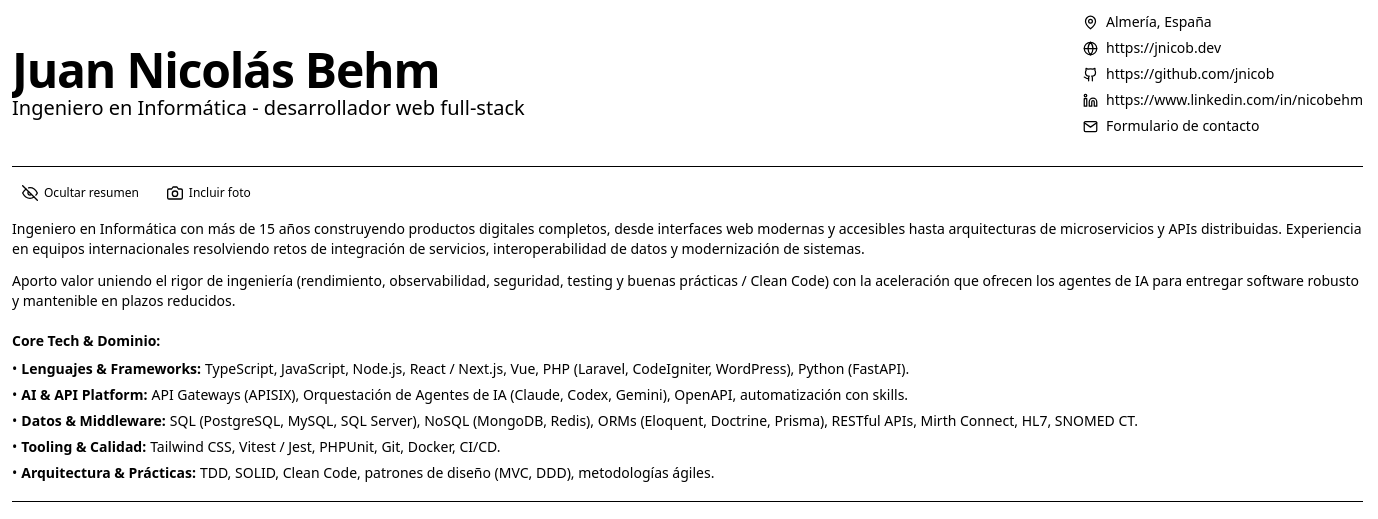
CvHeader › displays professional brief by default and toggles visibility on click
// Toggle off
Click the button "Ocultar resumen": (80, 193) left=12, top=179, right=149, bottom=207
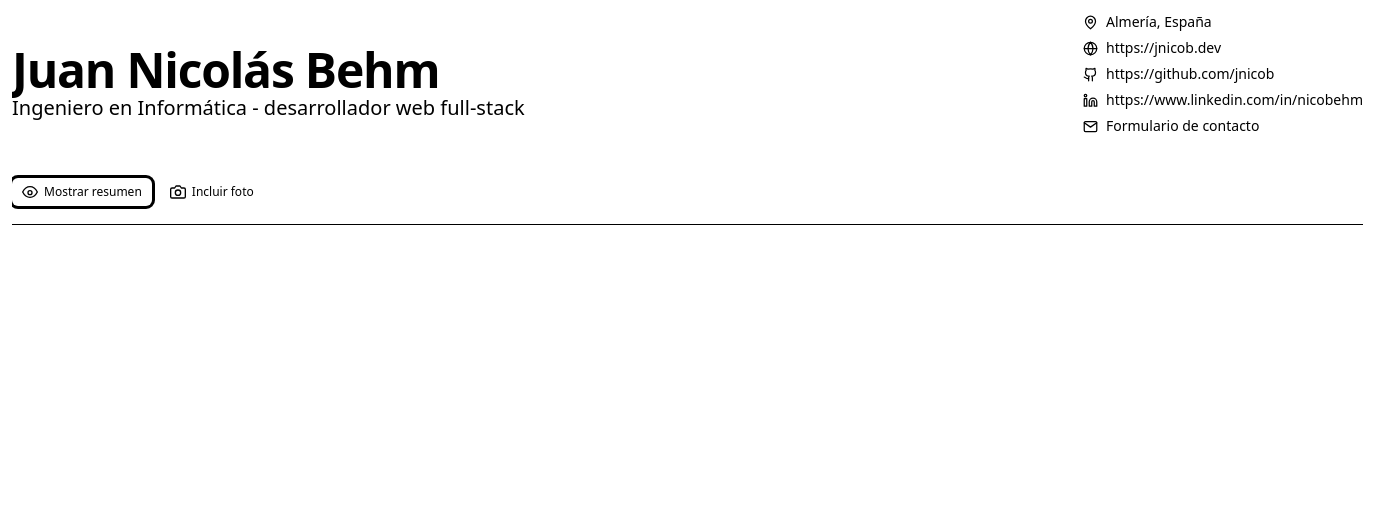
Expected: the button "Mostrar resumen" is shown, left=12, top=178, right=152, bottom=206
